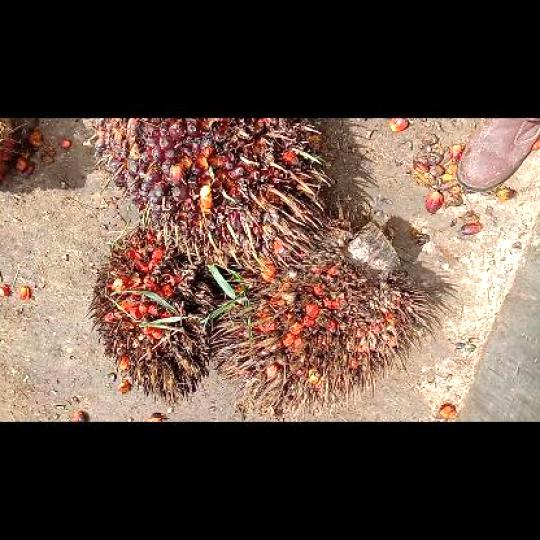masak: (86, 120, 332, 272)
terlalu masak: (209, 218, 440, 418), (85, 224, 220, 409)
